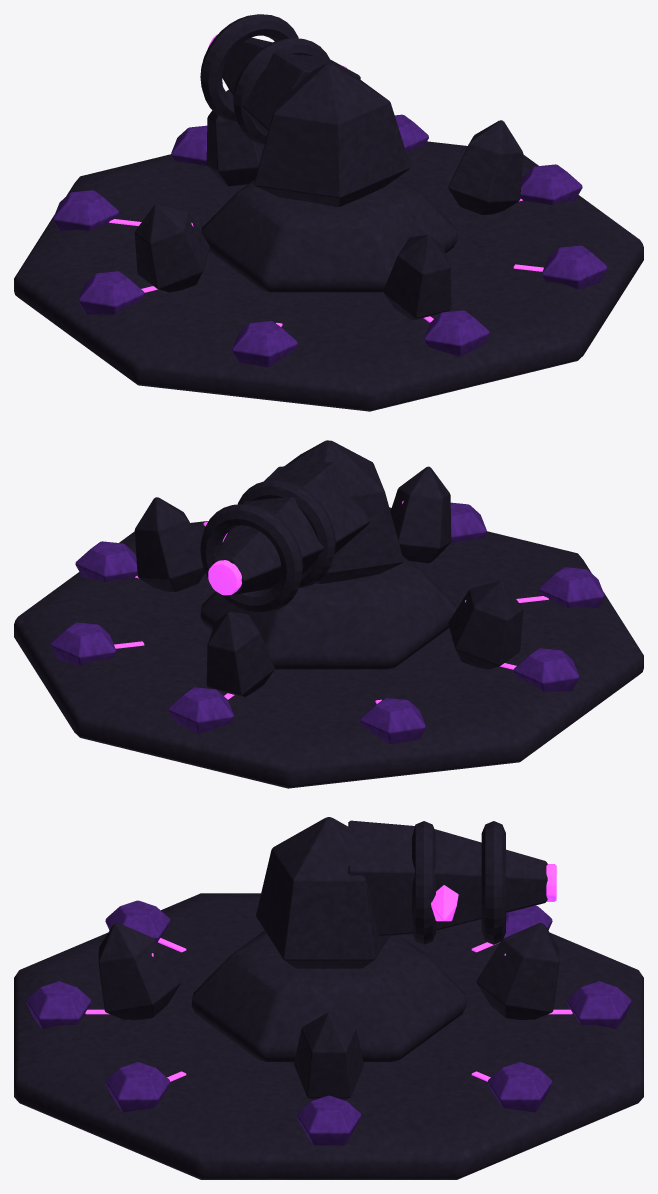
Rendered from conclave_sentinelle_de_cristal.gltf.
The picture shows the model from 3 angles, top to bottom: view 1: azimuth 30°, elevation 25°; view 2: azimuth 150°, elevation 25°; view 3: azimuth 270°, elevation 25°; orthographic projection. The views are drawn at different scales.
Visible parts, largest first — view 1: Root.005_Geometry, TurretYaw_Geometry, GunRecoil_Geometry; view 2: Root.005_Geometry, GunRecoil_Geometry, TurretYaw_Geometry; view 3: Root.005_Geometry, GunRecoil_Geometry, TurretYaw_Geometry.
Boxes of the visible parts, x1=… form: Root.005_Geometry: x1=14, y1=89, x2=643, y2=411; TurretYaw_Geometry: x1=254, y1=63, x2=410, y2=207; GunRecoil_Geometry: x1=200, y1=14, x2=360, y2=145; Root.005_Geometry: x1=14, y1=466, x2=643, y2=788; GunRecoil_Geometry: x1=200, y1=461, x2=369, y2=612; TurretYaw_Geometry: x1=284, y1=440, x2=403, y2=584; Root.005_Geometry: x1=14, y1=893, x2=643, y2=1179; GunRecoil_Geometry: x1=348, y1=820, x2=556, y2=944; TurretYaw_Geometry: x1=256, y1=817, x2=389, y2=968.
Bounding box in the file's own units: 3.92 × 1.58 × 3.92.
Materials: 3 (2 with a texture image).
